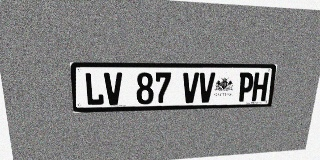7: (154, 72, 171, 104)
8: (136, 72, 154, 104)
H: (251, 72, 269, 101)
L: (84, 72, 104, 106)
P: (237, 72, 254, 102)
V: (104, 72, 123, 105), (182, 72, 199, 103), (198, 72, 215, 103)
